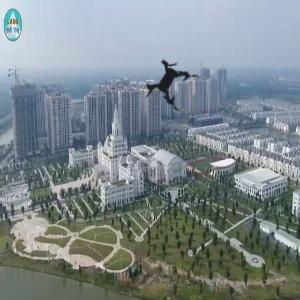drone: (125, 37, 219, 131)
